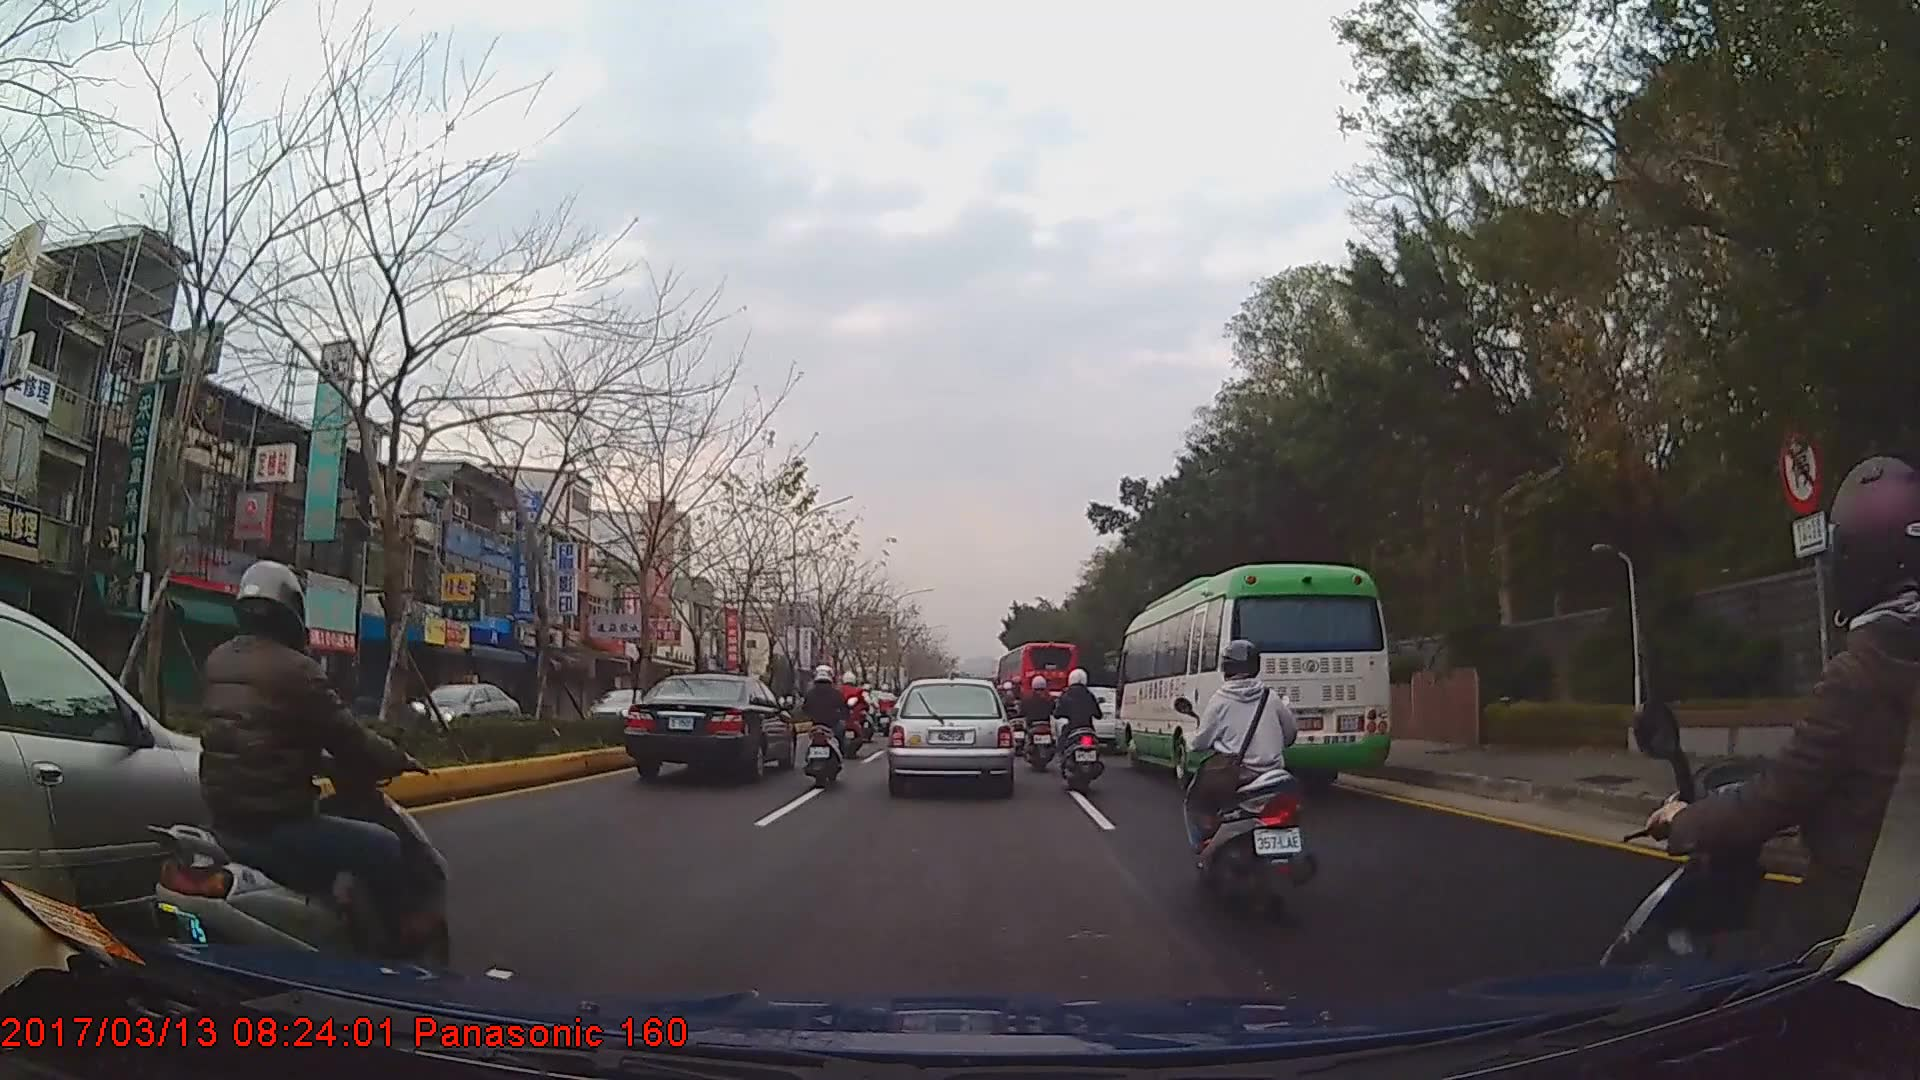rider: (1604, 456, 1920, 1080), (141, 561, 445, 1011), (1180, 641, 1315, 920), (803, 667, 854, 792), (1056, 670, 1106, 794), (1021, 674, 1060, 774), (836, 672, 871, 757), (1006, 676, 1029, 756), (856, 688, 882, 744), (877, 684, 898, 727)
vehicle: (1115, 564, 1392, 796), (619, 672, 799, 784), (888, 677, 1012, 795), (398, 681, 519, 751), (997, 640, 1081, 735)
